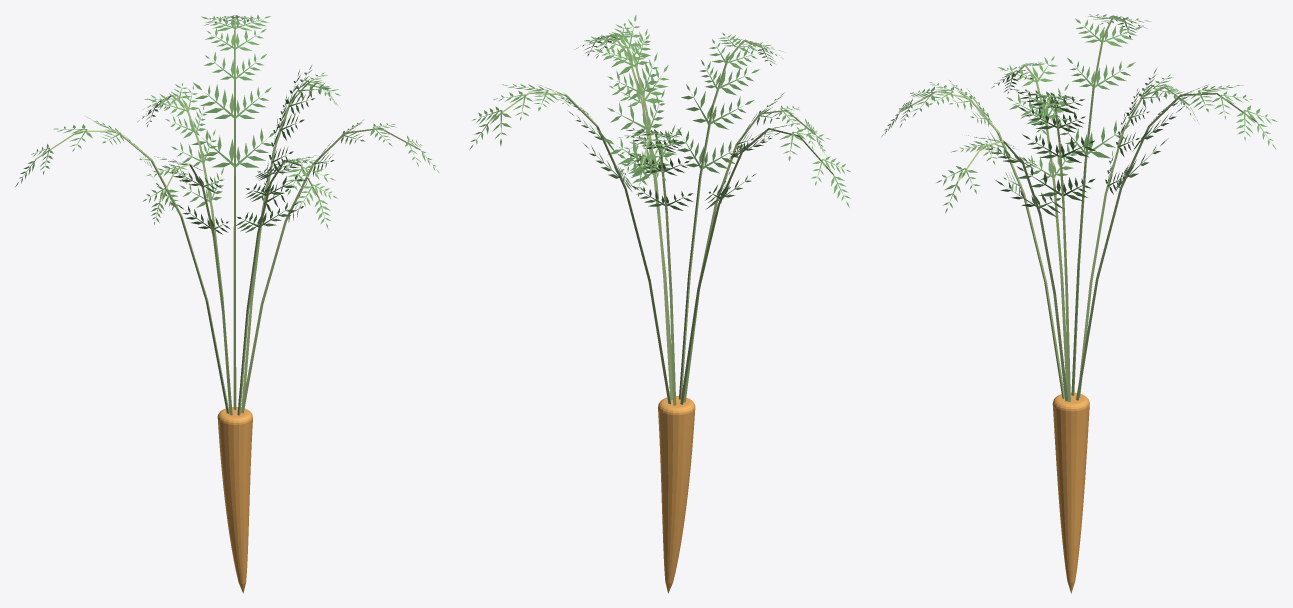
The model's file is carrot_harvest_v10.glb.
3 renders of one model, left to right at view 1: azimuth 30°, elevation 25°; view 2: azimuth 150°, elevation 25°; view 3: azimuth 270°, elevation 25°, orthographic. The views are drawn at different scales.
Parts seen in each view (by area): view 1: plant; view 2: plant; view 3: plant.
Boxes of the visible parts, <box> form: plant: <box>15,14,439,593</box>; plant: <box>470,14,850,593</box>; plant: <box>881,14,1277,593</box>.
Bounding box in the file's own units: 0.3436 × 0.5 × 0.3367.
Materials: 1 (1 with a texture image).
